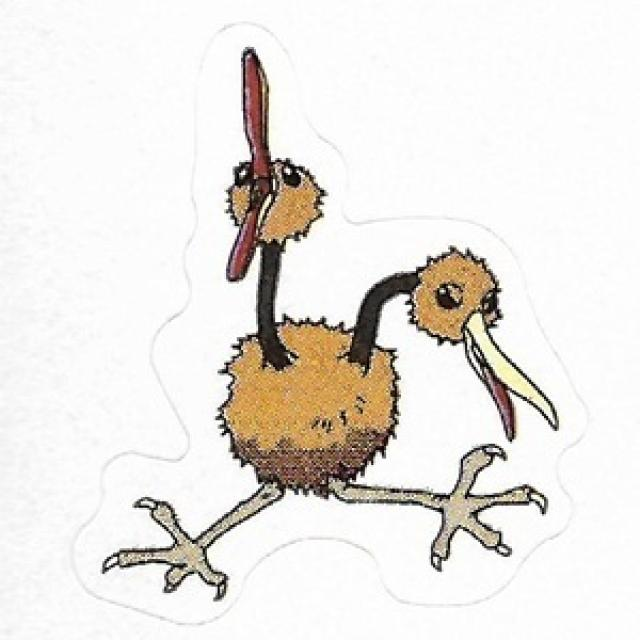Doduo: (208, 125, 504, 573)
